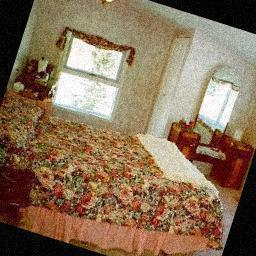Puerta: (145, 31, 192, 138)
